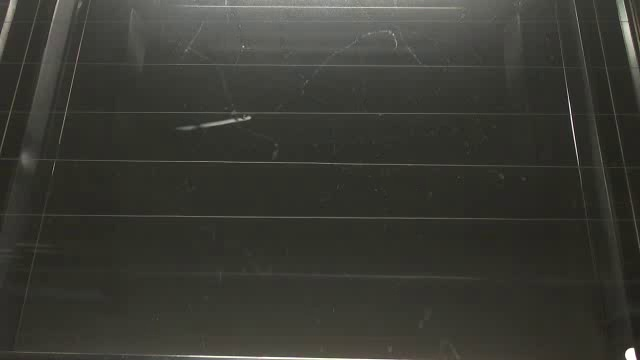Alfa: (174, 115, 254, 133)
